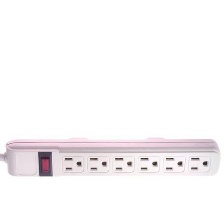three_eye_plug: (3, 136, 223, 179)
